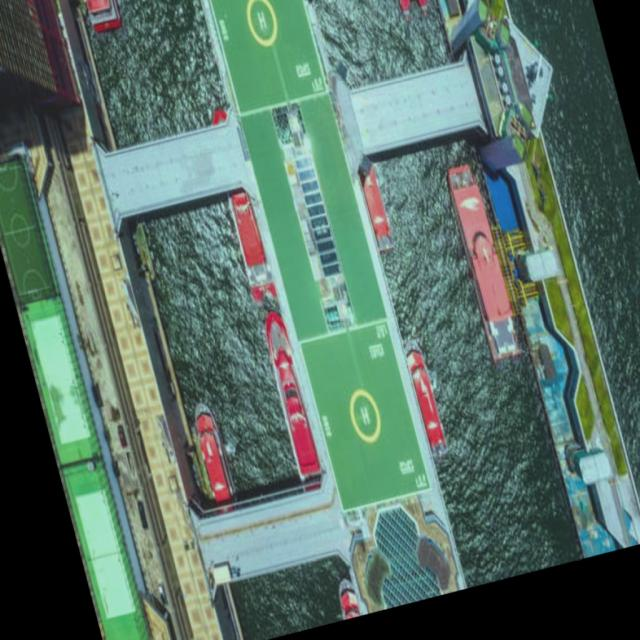helipad: (348, 387, 382, 444), (244, 0, 279, 47)
